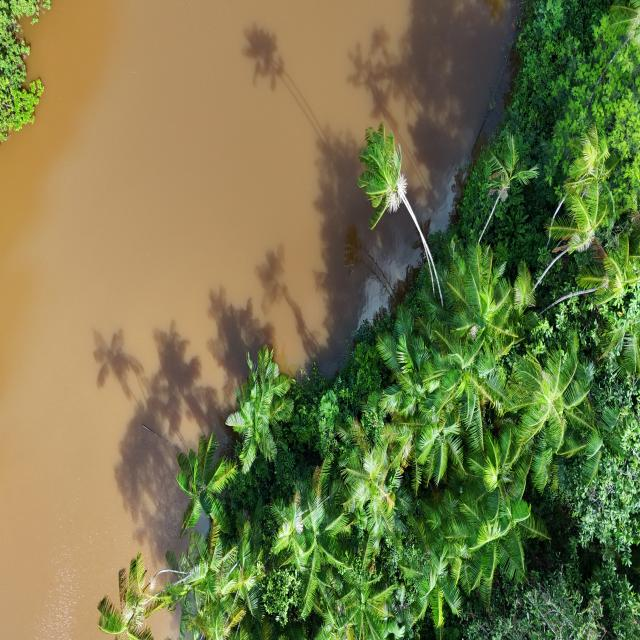vegetation: (96, 2, 639, 638)
